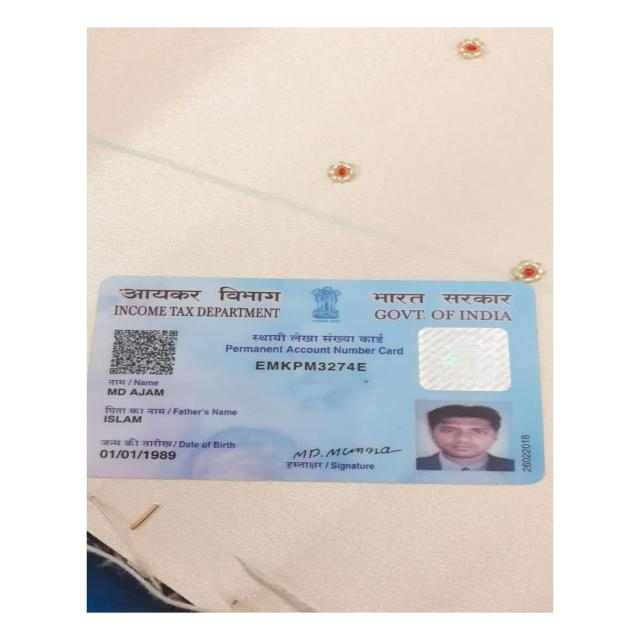pan_card: (85, 277, 543, 486)
